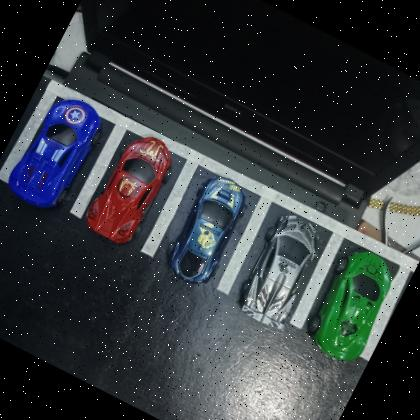Car: (3, 86, 107, 215), (300, 241, 404, 368), (232, 207, 334, 332), (81, 126, 180, 250), (159, 169, 256, 292)
